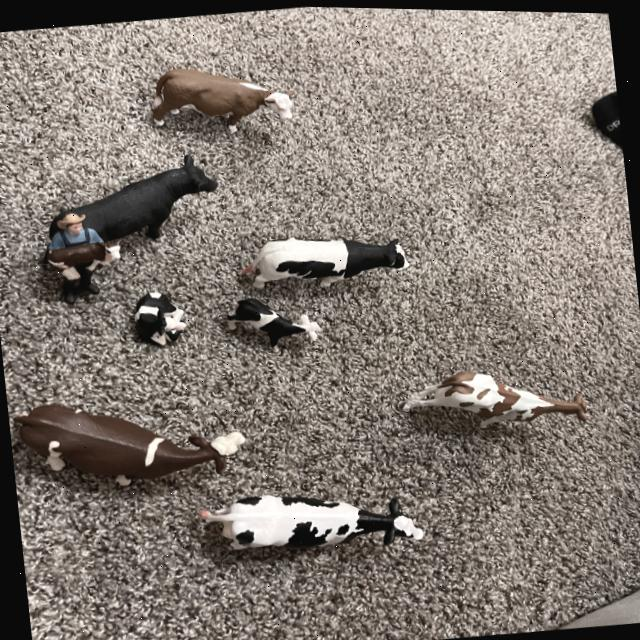cow: (41, 135, 225, 284), (7, 399, 246, 501), (401, 360, 590, 440), (202, 490, 425, 550), (151, 66, 296, 136), (240, 232, 410, 287), (221, 291, 322, 361), (121, 283, 194, 355), (45, 237, 121, 270)
person: (42, 207, 103, 251), (59, 260, 100, 302), (46, 254, 69, 274), (101, 252, 114, 263)
